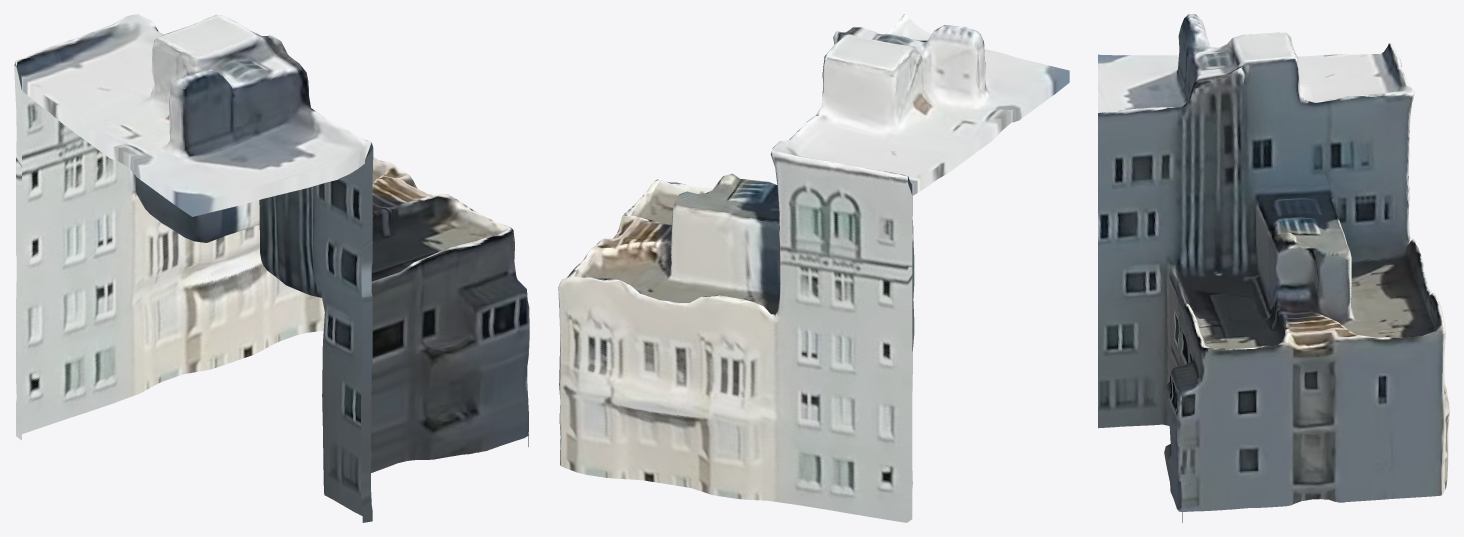
File: z20-167715-405197-h1-yup-uvflip-v3-world.glb
3 views of the same model, side by side, from view 1: azimuth 30°, elevation 25°; view 2: azimuth 150°, elevation 25°; view 3: azimuth 270°, elevation 25° (orthographic). The views are drawn at different scales.
Bounding box in the file's own units: 18.44 × 20.44 × 17.48.
1 material, 1 textured.
